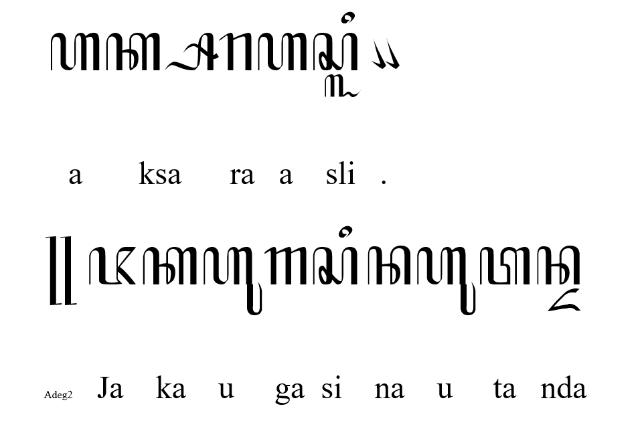_d: (548, 288, 580, 313)
_l: (323, 74, 361, 98)
_s: (164, 32, 220, 72)
adeg2: (44, 236, 76, 306)
g: (263, 246, 307, 286)
h: (256, 32, 308, 72), (50, 32, 100, 72)
hu: (417, 246, 478, 316), (202, 246, 262, 316)
i: (341, 12, 355, 24), (338, 226, 352, 238)
j: (89, 246, 137, 286)
k: (105, 33, 161, 73), (142, 246, 198, 286)
kom: (384, 38, 400, 70), (372, 39, 386, 69)
n: (536, 245, 580, 285), (366, 246, 412, 284)
r: (220, 32, 252, 72)
s: (312, 32, 358, 72), (312, 246, 358, 286)
t: (480, 248, 530, 286)
